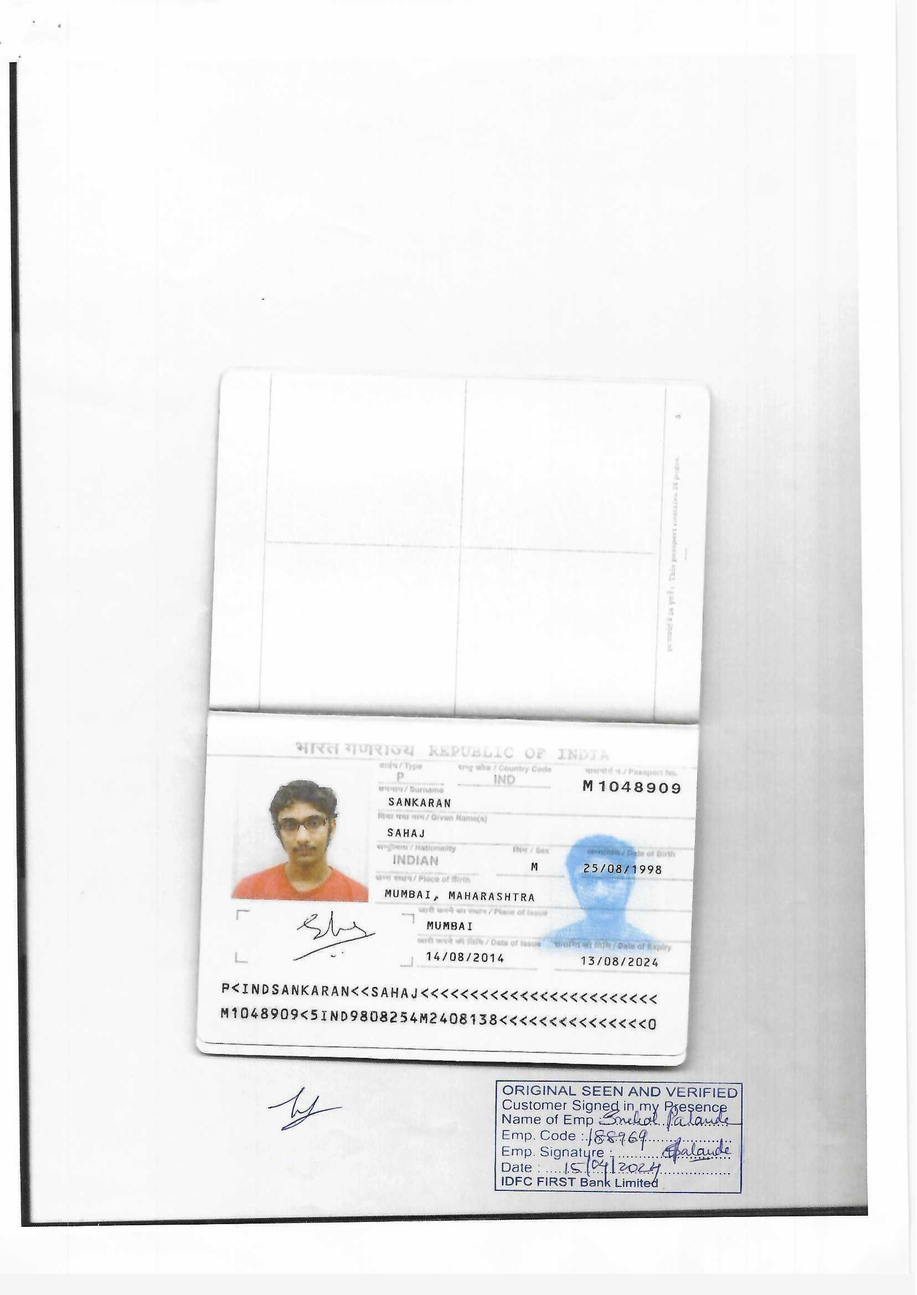DOB: (565, 858, 677, 881)
Surname: (382, 792, 465, 809)
country_code: (483, 770, 521, 786)
date_of_expiry: (564, 950, 673, 971)
date_of_issue: (418, 947, 525, 970)
details: (214, 977, 671, 1035)
name: (373, 822, 499, 843)
nationality: (380, 848, 452, 871)
passport_no: (574, 773, 687, 801)
photo: (238, 773, 363, 895)
place_of_birth: (381, 882, 542, 907)
place_of_issue: (419, 915, 479, 938)
sex: (516, 852, 552, 876)
sign: (287, 904, 381, 967)
type: (387, 768, 415, 790)
